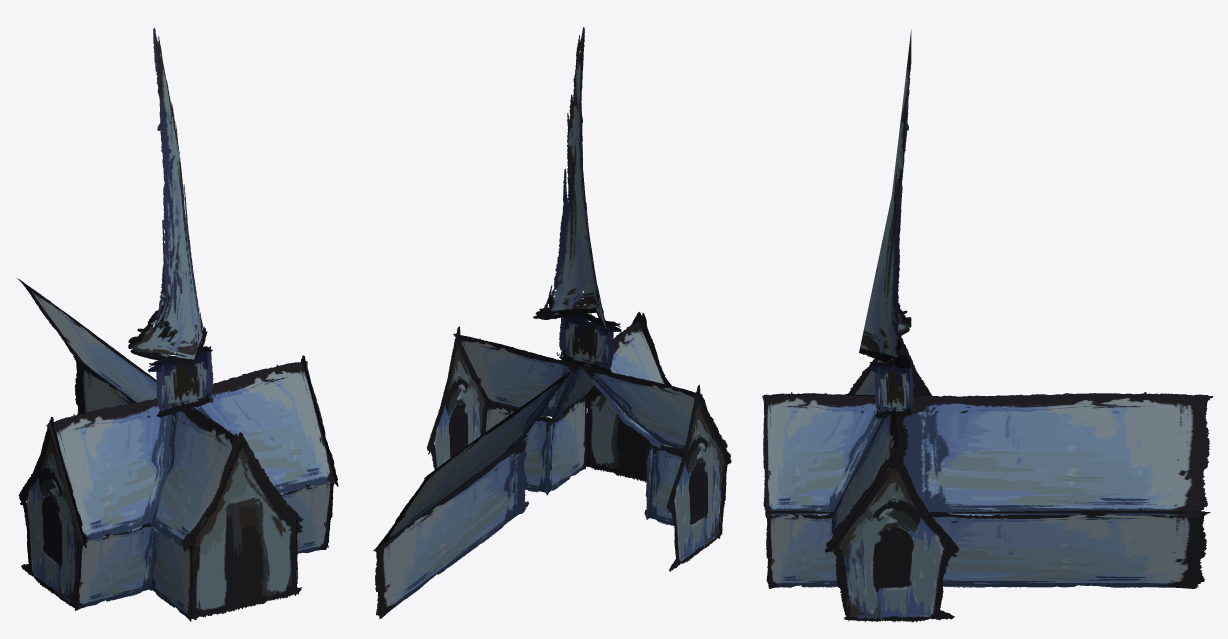
Rendered from house1.FBX.
3 renders of one model, left to right at view 1: azimuth 30°, elevation 25°; view 2: azimuth 150°, elevation 25°; view 3: azimuth 270°, elevation 25°, orthographic. The views are drawn at different scales.
Parts seen in each view (by area): view 1: Plane018; view 2: Plane018; view 3: Plane018.
Part boxes in pixels (x1,y1,x2,y2): Plane018: [17, 28, 338, 621]; Plane018: [373, 27, 731, 618]; Plane018: [762, 30, 1213, 622].
Size of the model in its own units: 659 by 996 by 1286.
